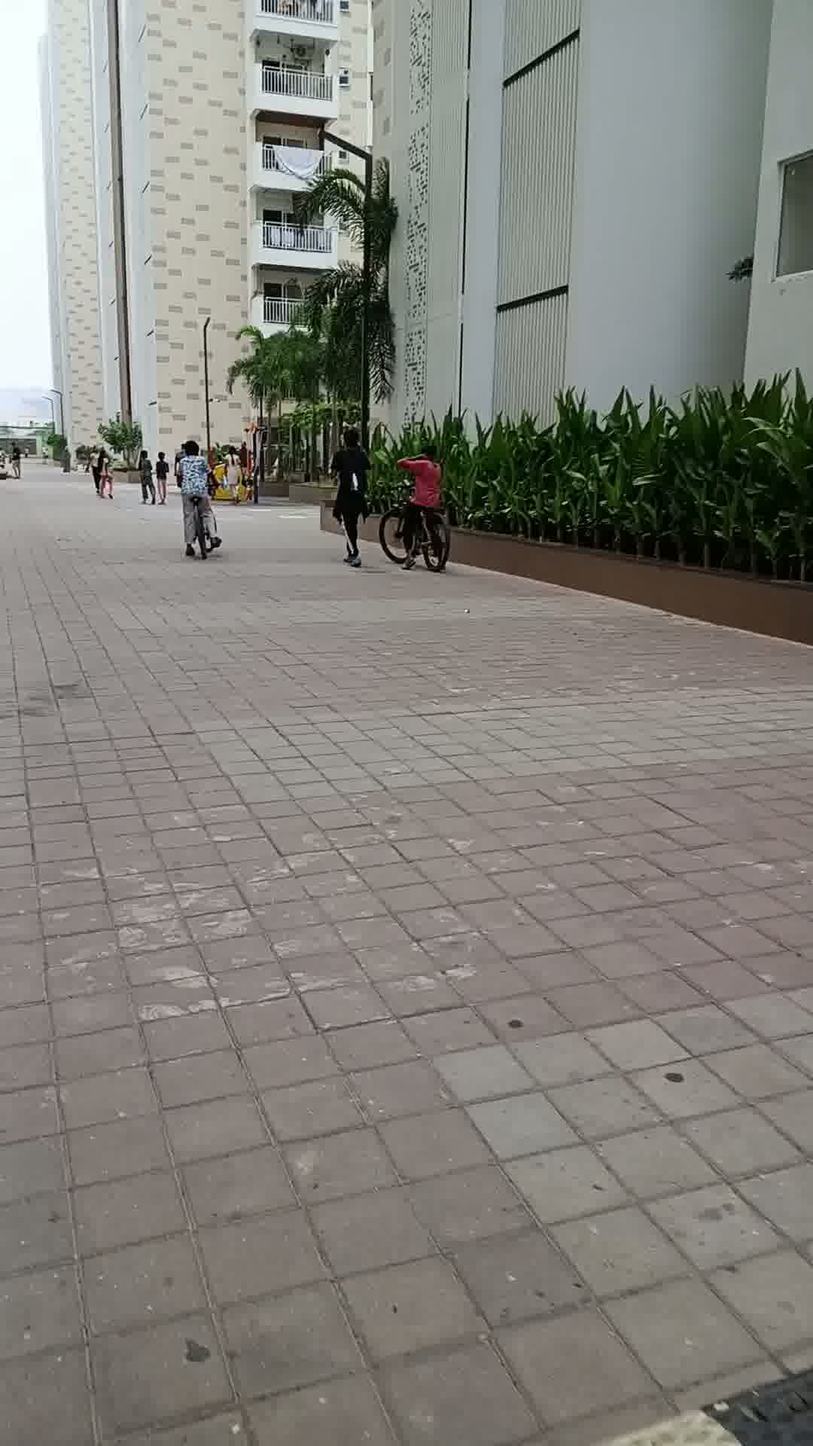bicycle: (377, 497, 464, 574)
person: (315, 416, 371, 569), (397, 428, 453, 572), (172, 429, 223, 568), (87, 440, 126, 505), (131, 443, 155, 519), (225, 443, 248, 502), (5, 432, 28, 487), (155, 445, 173, 514)
tree: (296, 155, 404, 468), (235, 317, 296, 477)
